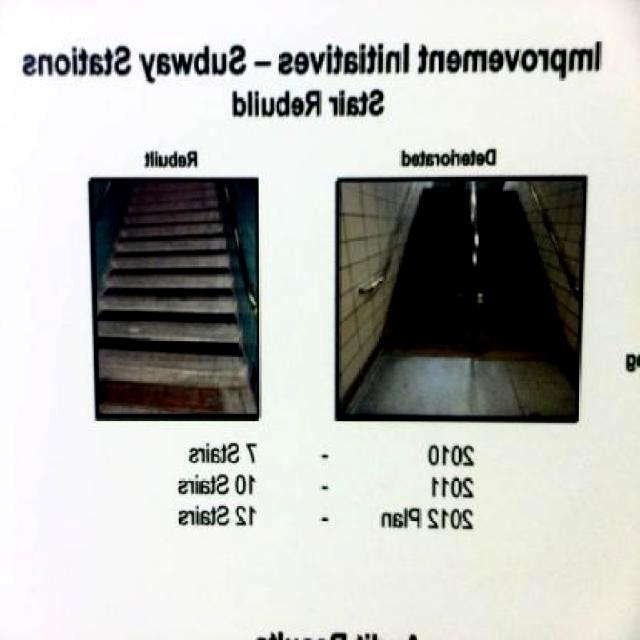stair: (94, 178, 257, 416), (380, 187, 571, 356)
